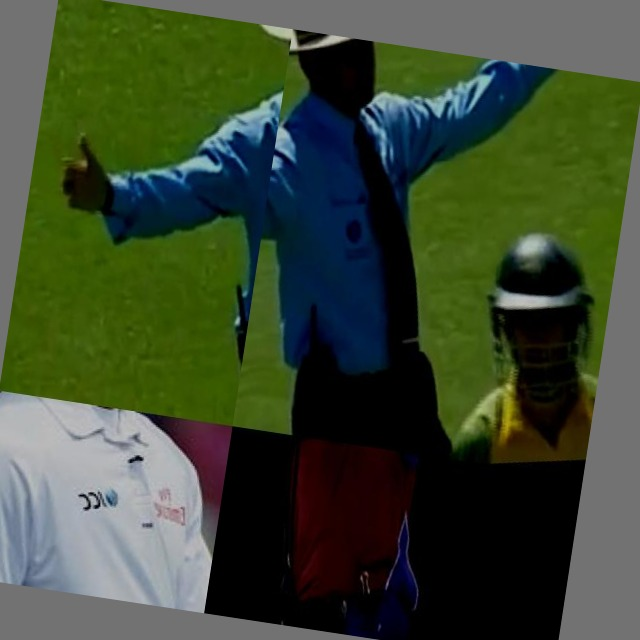No_Action: (0, 391, 232, 613)
No_Ball: (0, 0, 293, 426)
Six: (204, 426, 486, 640)
Wide: (253, 29, 640, 341)
